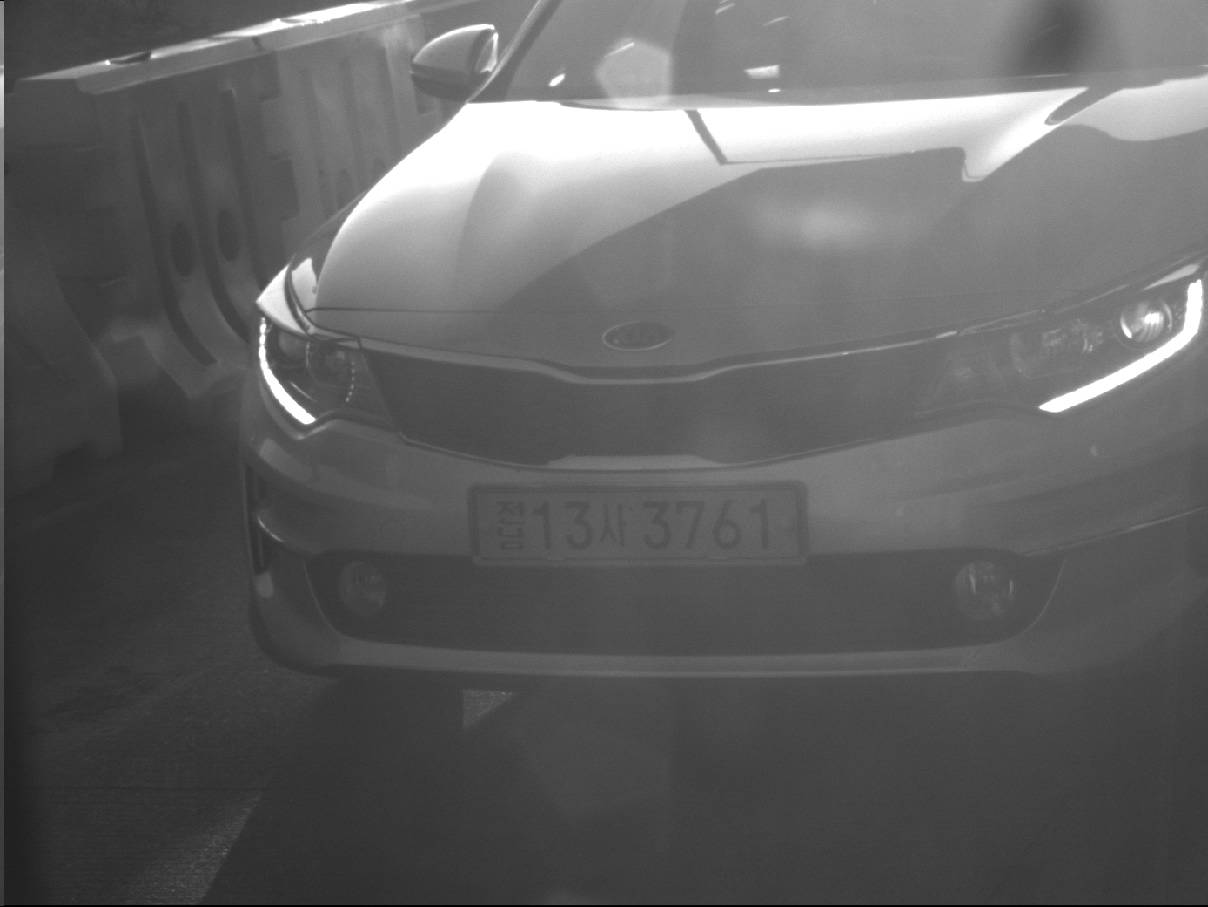car: (237, 2, 1208, 712)
plate: (465, 482, 813, 568)
